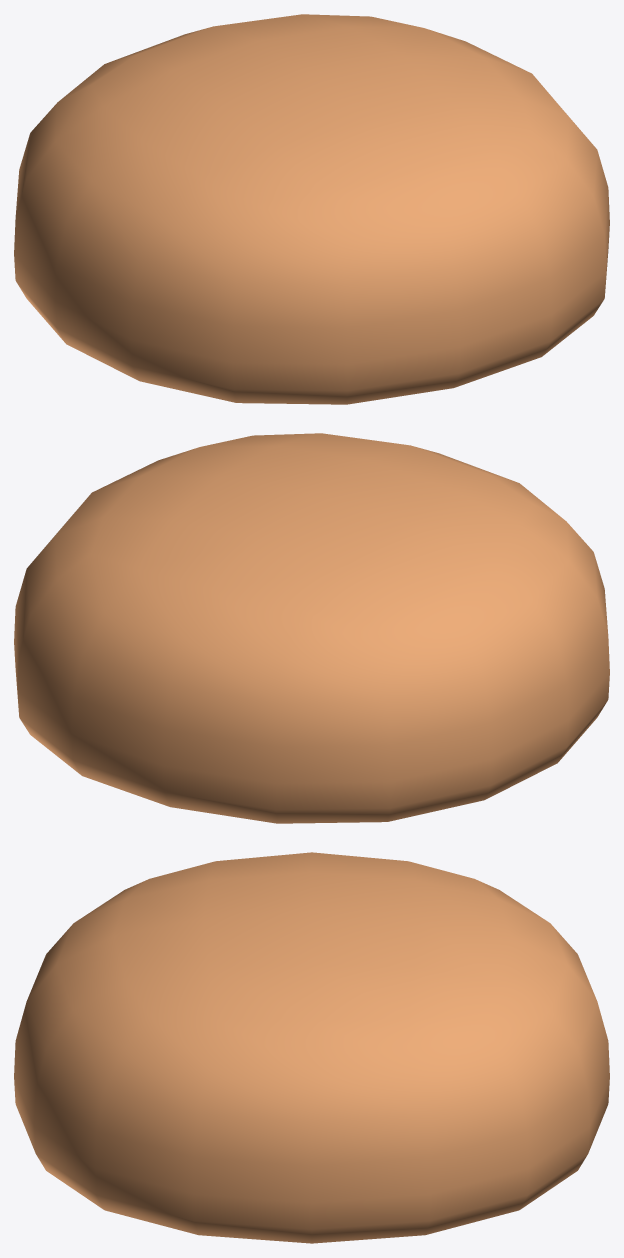
The model's file is pan.glb.
The picture shows the model from 3 angles, top to bottom: view 1: azimuth 30°, elevation 25°; view 2: azimuth 150°, elevation 25°; view 3: azimuth 270°, elevation 25°; orthographic projection.
Parts seen in each view (by area): view 1: pan_arriba; view 2: pan_arriba; view 3: pan_arriba.
Part boxes in pixels (box(x1,y1,x2,y2)): pan_arriba: box(14, 14, 609, 404); pan_arriba: box(14, 433, 609, 823); pan_arriba: box(14, 852, 609, 1243).
Size of the model in its own units: 1.83 by 0.7994 by 1.83.
